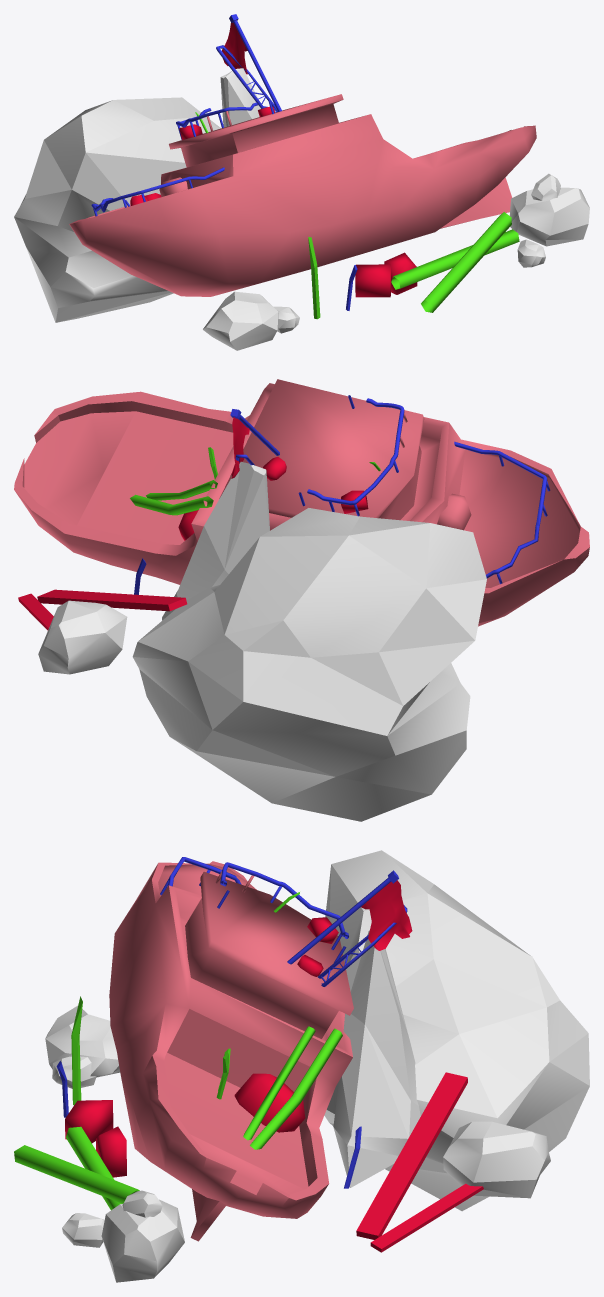
File: ship.glb
3 renders of one model, top to bottom at view 1: azimuth 30°, elevation 25°; view 2: azimuth 150°, elevation 25°; view 3: azimuth 270°, elevation 25°, orthographic. The views are drawn at different scales.
Visible parts, largest first — view 1: ship; view 2: ship; view 3: ship.
Boxes of the visible parts, left/top/right/bottom form: ship: left=14, top=14, right=589, bottom=350; ship: left=14, top=379, right=589, bottom=821; ship: left=14, top=850, right=589, bottom=1282.
Size of the model in its own units: 45.85 by 26.59 by 37.03.
